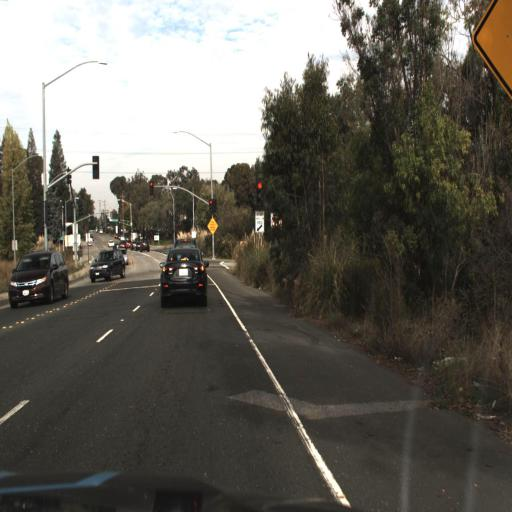car: (7, 247, 66, 310), (157, 247, 207, 309), (86, 246, 124, 287)
trafficLight-Red: (255, 177, 267, 212), (209, 195, 217, 218), (147, 176, 155, 198)
